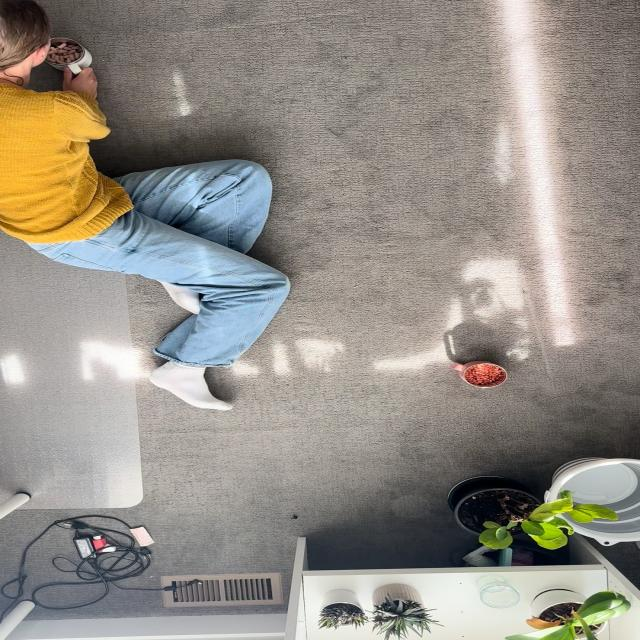IBC: (46, 38, 92, 76), (450, 360, 507, 388)
